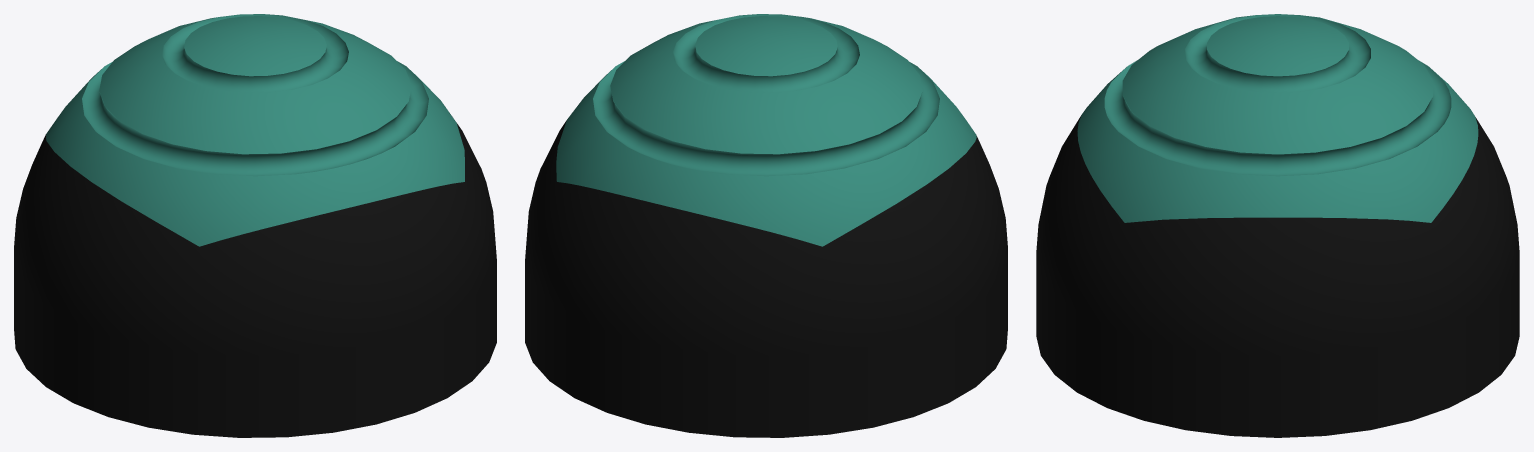
File: dg5f_link_tip_sensor_render.glb
3 views of the same model, side by side, from view 1: azimuth 30°, elevation 25°; view 2: azimuth 150°, elevation 25°; view 3: azimuth 270°, elevation 25° (orthographic).
Visible parts, largest first — view 1: dg5f_link_tip_sensor; view 2: dg5f_link_tip_sensor; view 3: dg5f_link_tip_sensor.
Boxes of the visible parts, <box> form: dg5f_link_tip_sensor: <box>14,14,496,437</box>; dg5f_link_tip_sensor: <box>525,14,1007,437</box>; dg5f_link_tip_sensor: <box>1036,14,1519,437</box>.
Bounding box in the file's own units: 0.0205 × 0.014 × 0.0205.
